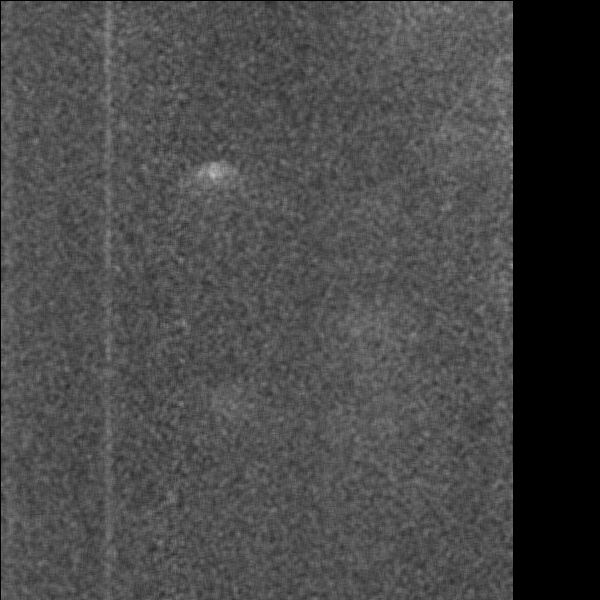spark: (197, 155, 226, 198)
